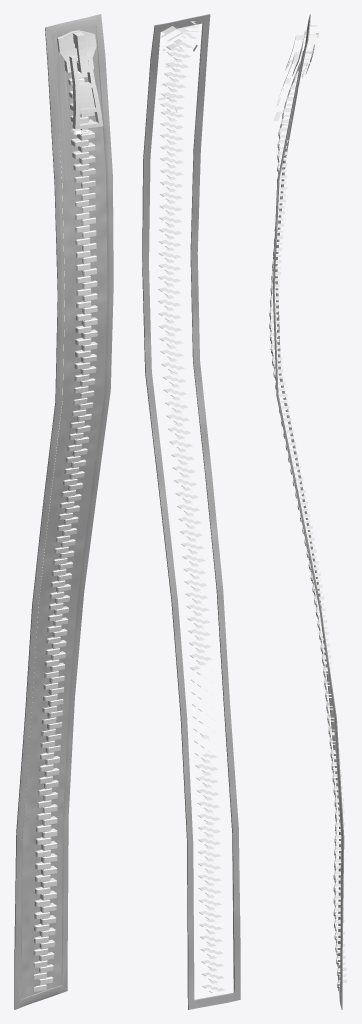
File: Ziplock_L.glb
3 views of the same model, side by side, from view 1: azimuth 30°, elevation 25°; view 2: azimuth 210°, elevation 25°; view 3: azimuth 270°, elevation 25° (orthographic).
Visible parts, largest first — view 1: Cloth1, Ziplock_L1, Rope1; view 2: Rope1, Ziplock_L1; view 3: Ziplock_L1, Rope1, Cloth1.
Part boxes in pixels (<box>): Cloth1: <box>21,25,107,998</box>; Ziplock_L1: <box>33,23,103,991</box>; Rope1: <box>14,14,113,1009</box>; Rope1: <box>142,14,240,1009</box>; Ziplock_L1: <box>157,21,224,992</box>; Ziplock_L1: <box>269,24,347,990</box>; Rope1: <box>272,14,344,1009</box>; Cloth1: <box>319,595,341,985</box>.
Size of the model in its own units: 0.0205 by 0.2724 by 0.0196.
3 materials, 3 textured.
